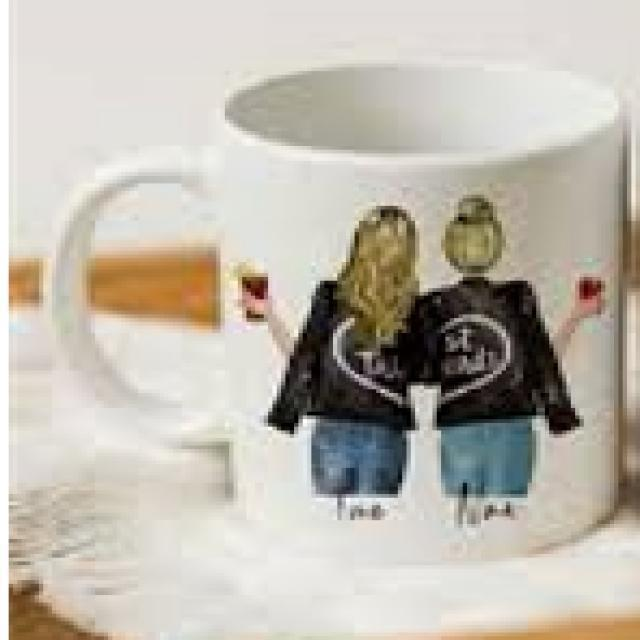taza: (49, 54, 625, 568)
